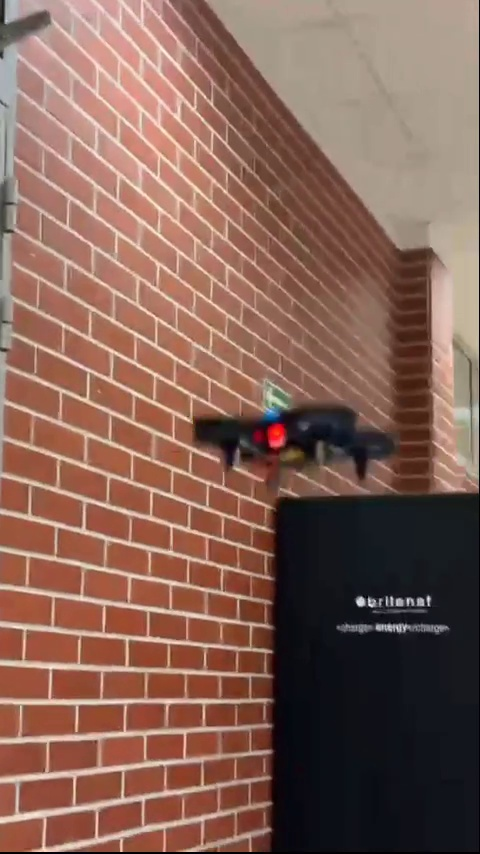drone: (201, 403, 385, 482)
